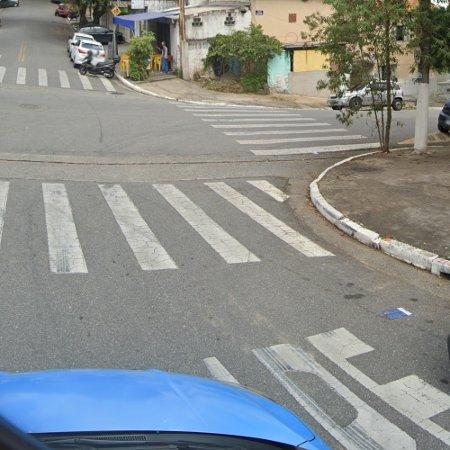crosswalks: (164, 100, 385, 158)
